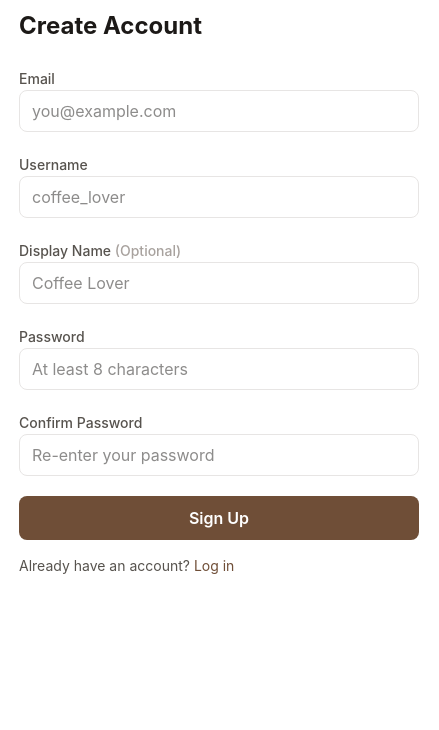
it: RegisterPage › should display structured error message from ApiError on registration failure
The width and height of the screenshot is (439, 730).
Type "taken@test.com" into the field with placeholder "you@example.com" at (219, 111), box [19,90,419,132]
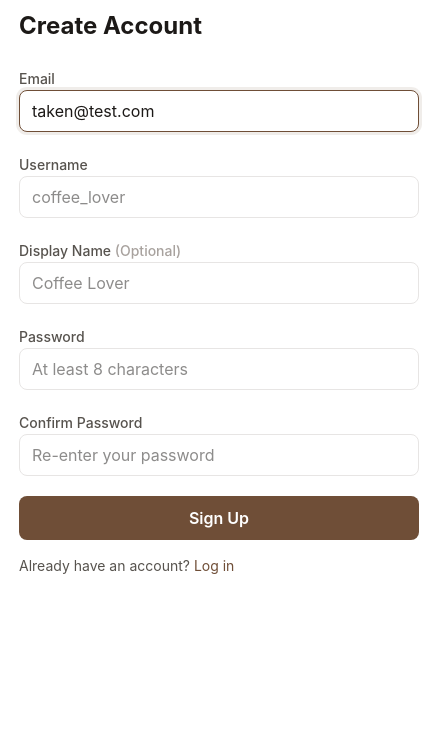
Type "testuser" into the field with placeholder "coffee_lover" at (219, 197), box [19,176,419,218]
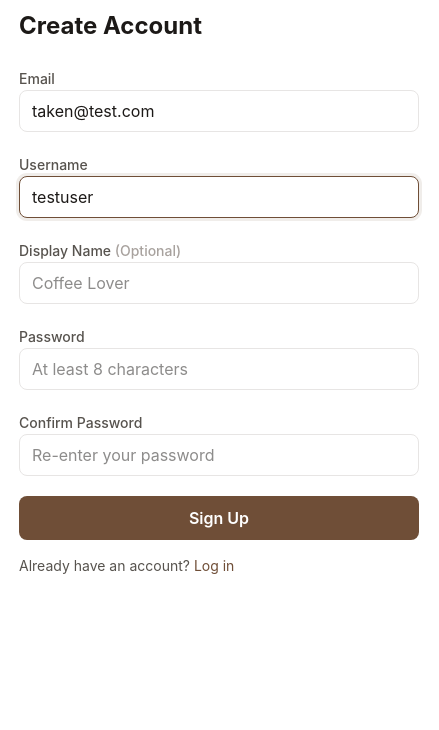
Type "Passw0rd!" into the password field with placeholder "Re-enter your password" at (219, 455), box [19,434,419,476]
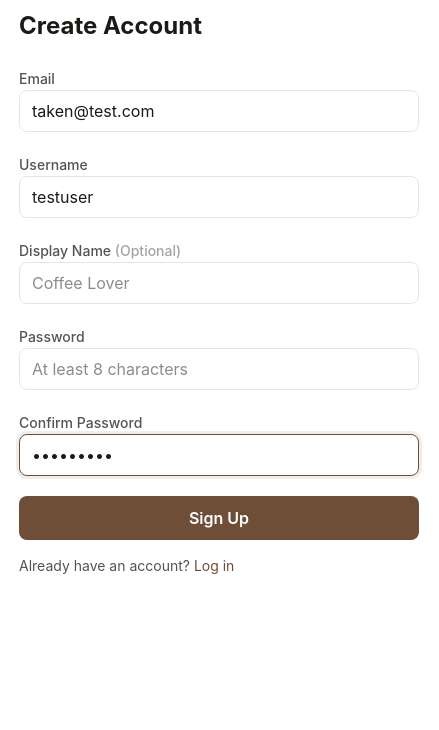
Type "Passw0rd!" into the password field with placeholder "At least 8 characters" at (219, 369), box [19,348,419,390]
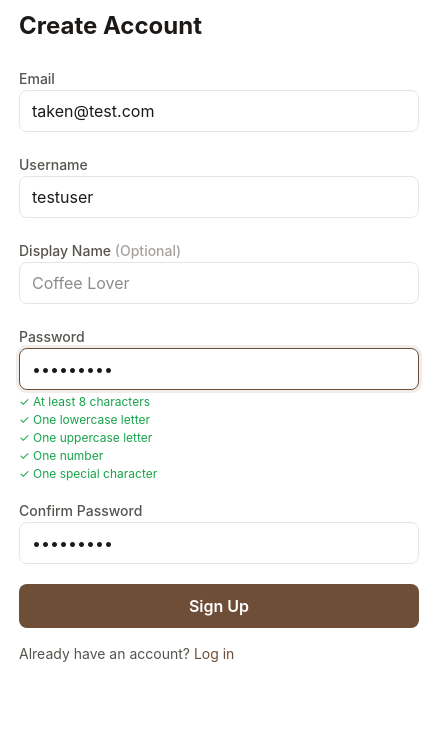
Click the button "Sign Up" at (219, 606), box [19,584,419,628]
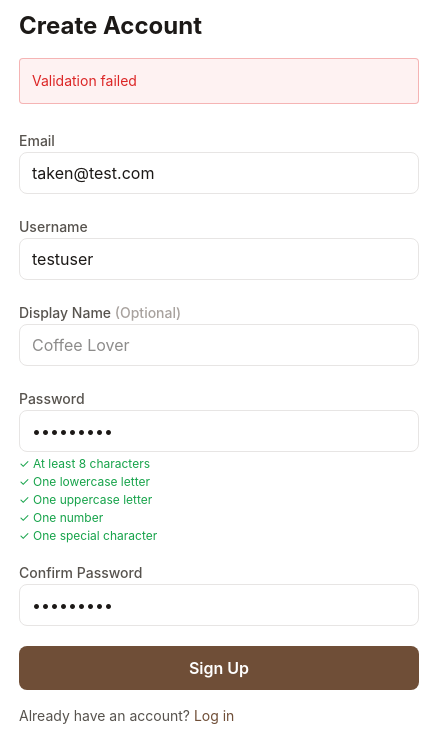
Check: the text "Validation failed" is shown, box [19,58,419,104]
